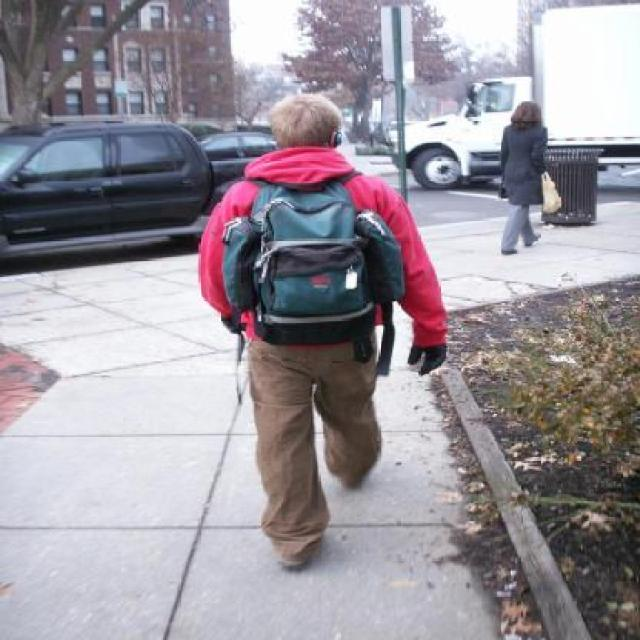backpack: (218, 171, 408, 351)
